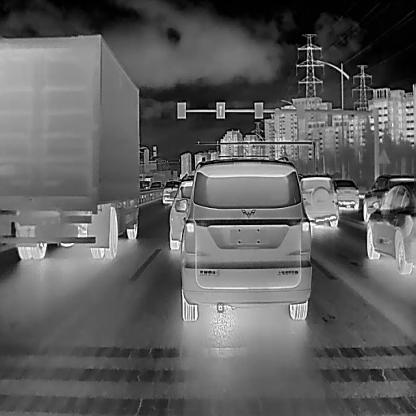car: (179, 156, 312, 320), (366, 182, 416, 276), (361, 172, 415, 224), (167, 176, 198, 249), (296, 175, 338, 228), (330, 176, 359, 209), (161, 180, 182, 204), (139, 179, 152, 191), (150, 181, 163, 192)
truck: (0, 33, 140, 259)
